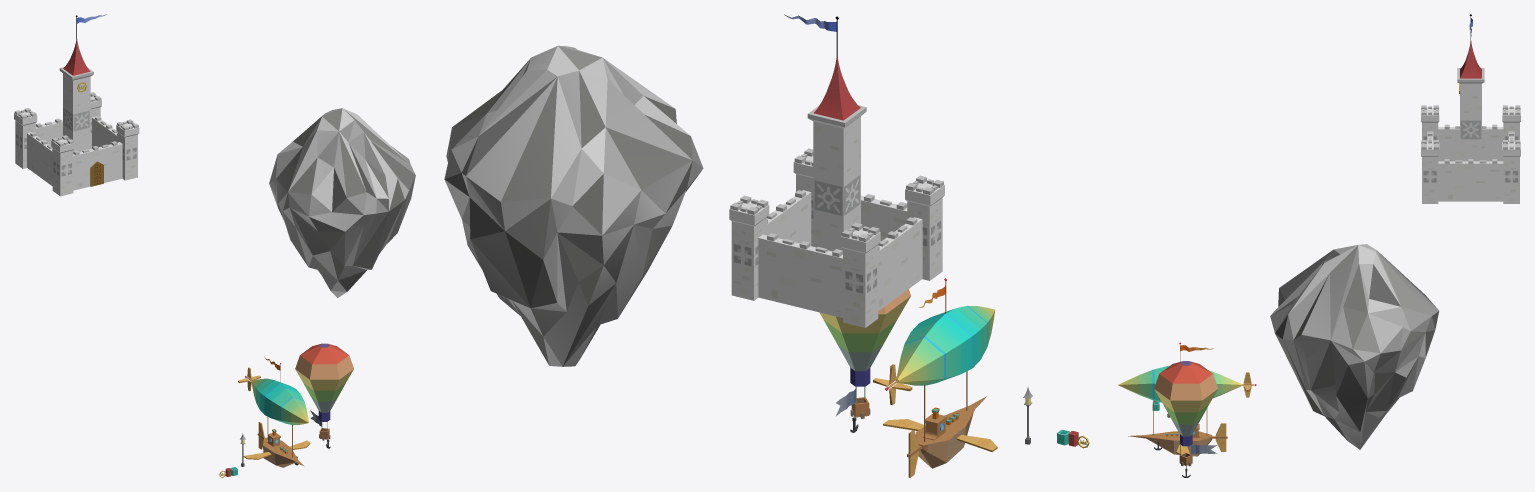
The model's file is Models_2_Mod.FBX.
3 views of the same model, side by side, from view 1: azimuth 30°, elevation 25°; view 2: azimuth 150°, elevation 25°; view 3: azimuth 270°, elevation 25° (orthographic). The views are drawn at different scales.
Parts seen in each view (by area): view 1: Rock1A_001, Castle1A_001, Airship1A_001, Balloon1A_001; view 2: Rock1A_001, Castle1A_001, Airship1A_001, Balloon1A_001; view 3: Rock1A_001, Castle1A_001, Balloon1A_001, Airship1A_001.
Boxes of the visible parts, box(x1,y1,x2,y2) form: Rock1A_001: box(269, 108, 415, 297); Castle1A_001: box(14, 14, 139, 196); Airship1A_001: box(238, 357, 310, 467); Balloon1A_001: box(295, 343, 353, 448); Rock1A_001: box(444, 45, 703, 366); Castle1A_001: box(729, 14, 944, 327); Airship1A_001: box(873, 278, 997, 477); Balloon1A_001: box(819, 289, 910, 432); Rock1A_001: box(1270, 244, 1439, 449); Castle1A_001: box(1421, 14, 1520, 203); Balloon1A_001: box(1154, 361, 1218, 477); Airship1A_001: box(1118, 342, 1256, 456).
Size of the model in its own units: 433 by 485 by 436.
Materials: 8 (8 with a texture image).
